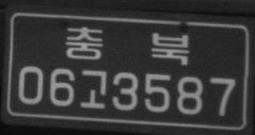0: (17, 65, 43, 105)
3: (112, 71, 138, 111)
5: (143, 73, 170, 112)
6: (49, 67, 75, 107)
7: (209, 76, 235, 117)
8: (176, 75, 203, 115)
고: (79, 68, 107, 109)
충북_D: (65, 26, 190, 65)
